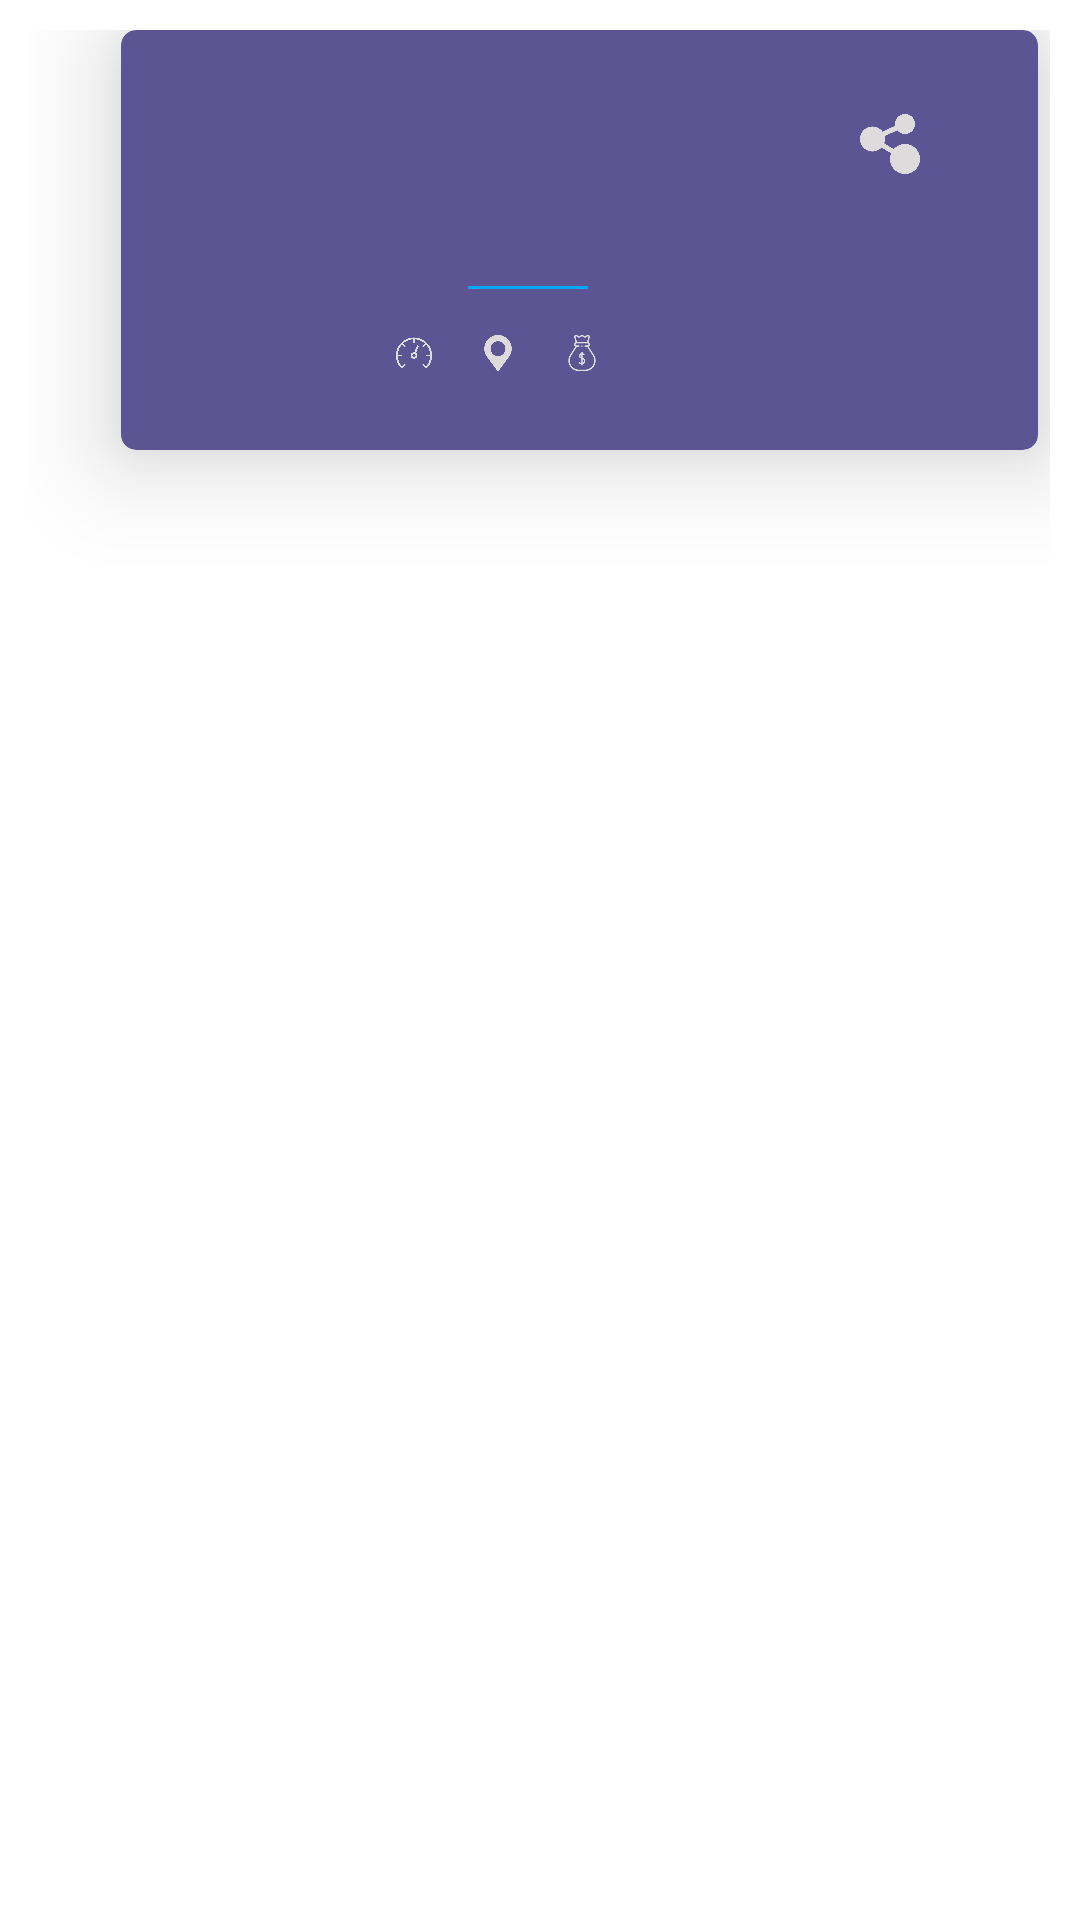

Icons on this 1080×1920 Android screen, each with its box as (x1, y1, x2, y2):
location: (484, 335, 512, 371)
price: (568, 335, 596, 371)
share: (860, 114, 920, 174)
speed: (396, 337, 432, 368)
